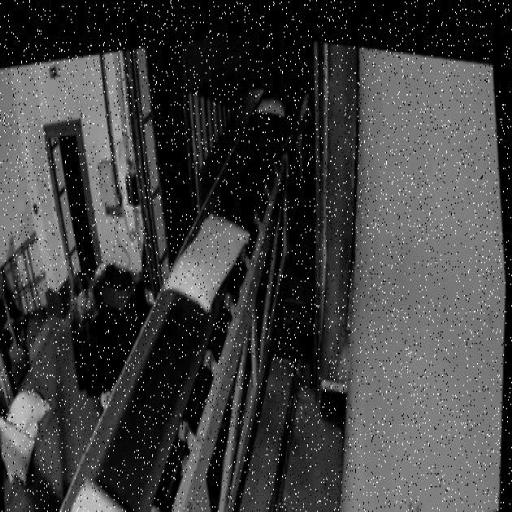c-belt-sack-count: (166, 216, 248, 311), (72, 480, 124, 511)
